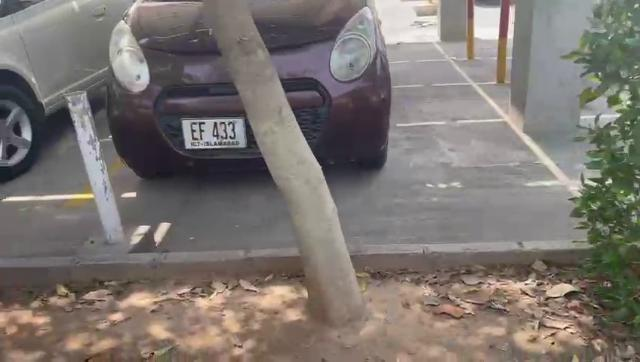plate: (180, 117, 248, 148)
